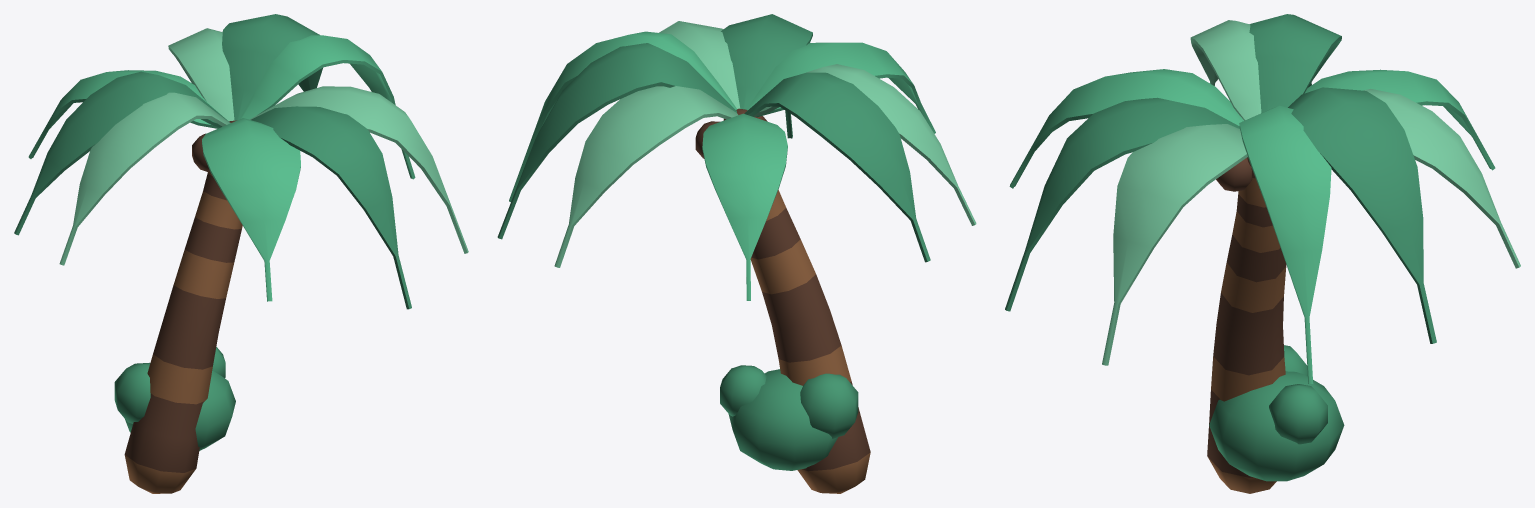
File: W3_Palm_C.fbx
3 views of the same model, side by side, from view 1: azimuth 30°, elevation 25°; view 2: azimuth 150°, elevation 25°; view 3: azimuth 270°, elevation 25° (orthographic). The views are drawn at different scales.
Visible parts, largest first — view 1: W3_Palm_C; view 2: W3_Palm_C; view 3: W3_Palm_C.
Boxes of the visible parts, <box> form: W3_Palm_C: <box>14,14,468,493</box>; W3_Palm_C: <box>497,14,976,493</box>; W3_Palm_C: <box>1005,14,1520,493</box>.
Bounding box in the file's own units: 3.96 × 3.9 × 3.82.
